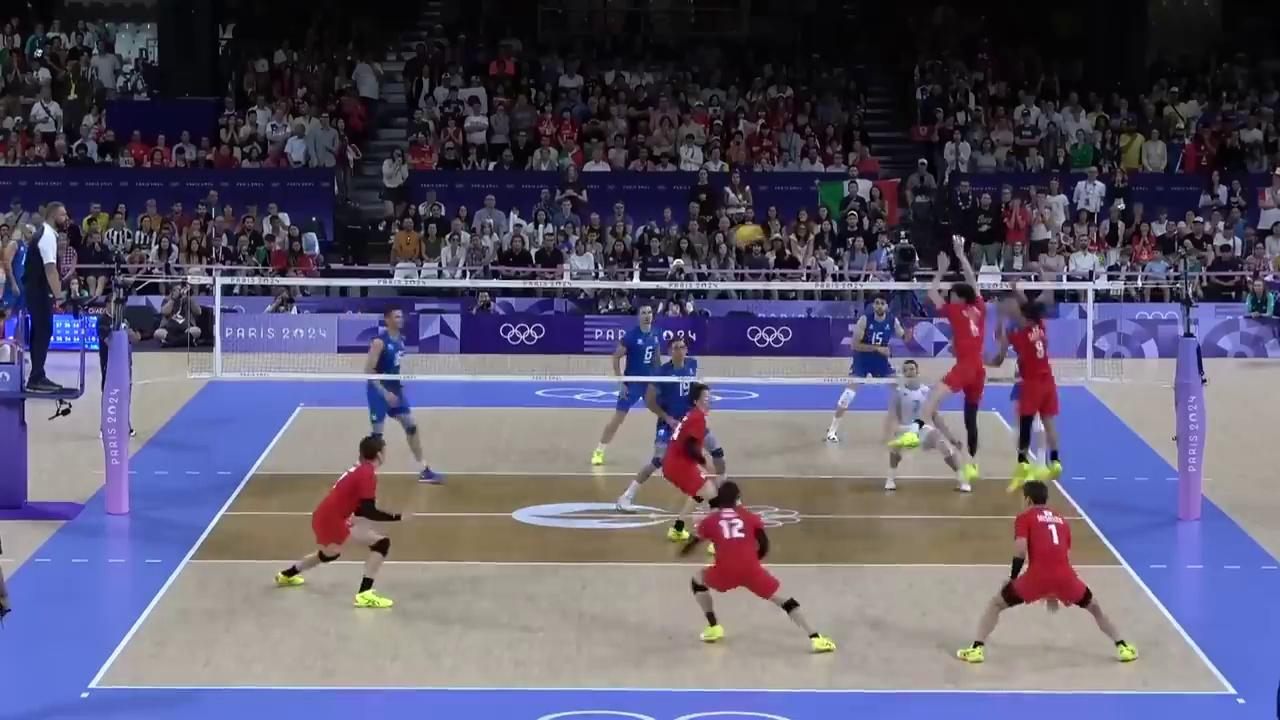ball: (735, 225, 762, 252)
